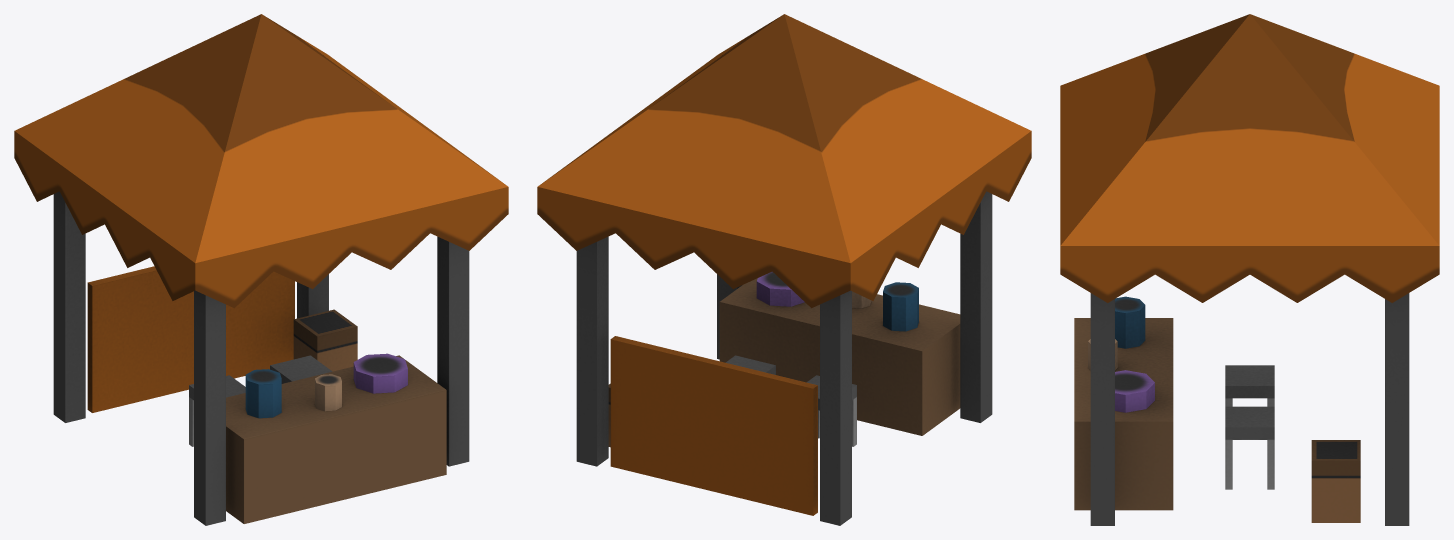
The model's file is WalkingStreet_Small.fbx.
The picture shows the model from 3 angles, left to right: view 1: azimuth 30°, elevation 25°; view 2: azimuth 150°, elevation 25°; view 3: azimuth 270°, elevation 25°; orthographic projection. The views are drawn at different scales.
Visible parts, largest first — view 1: Small; view 2: Small; view 3: Small.
Part boxes in pixels (x1=…): Small: x1=14, y1=14, x2=508, y2=525; Small: x1=537, y1=14, x2=1031, y2=525; Small: x1=1060, y1=14, x2=1439, y2=525.
Size of the model in its own units: 3.86 by 5 by 3.86.
